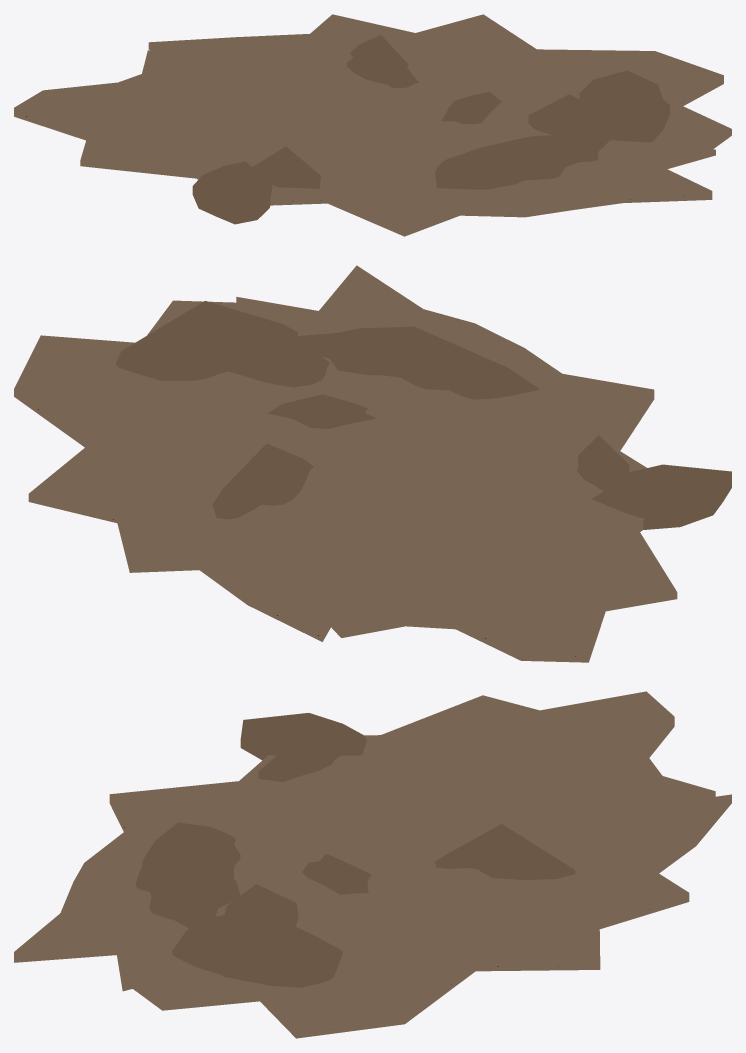
Rendered from dirt_12.glb.
3 views of the same model, one above another, from view 1: azimuth 30°, elevation 25°; view 2: azimuth 150°, elevation 25°; view 3: azimuth 270°, elevation 25° (orthographic). The views are drawn at different scales.
Visible parts, largest first — view 1: dirt_12; view 2: dirt_12; view 3: dirt_12.
Part boxes in pixels (x1,y1,x2,y2): dirt_12: (14,14,731,236); dirt_12: (14,265,731,662); dirt_12: (14,691,731,1038).
Bounding box in the file's own units: 0.7972 × 0.0695 × 0.7181.
